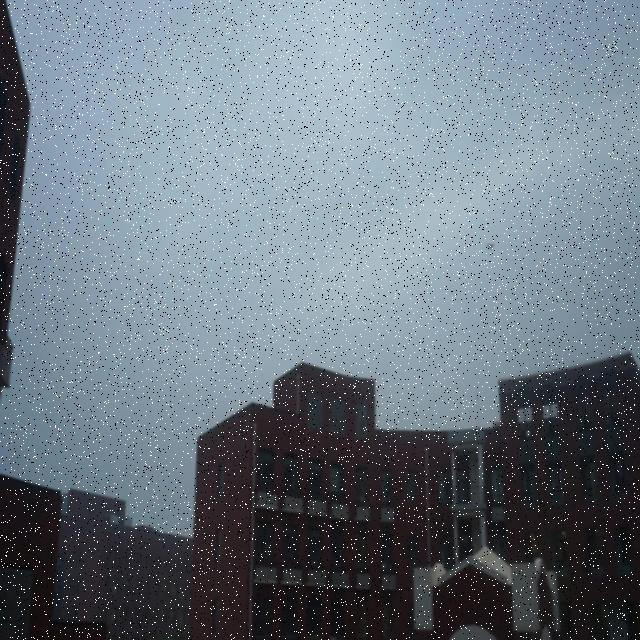UAV: (486, 244, 496, 250)
